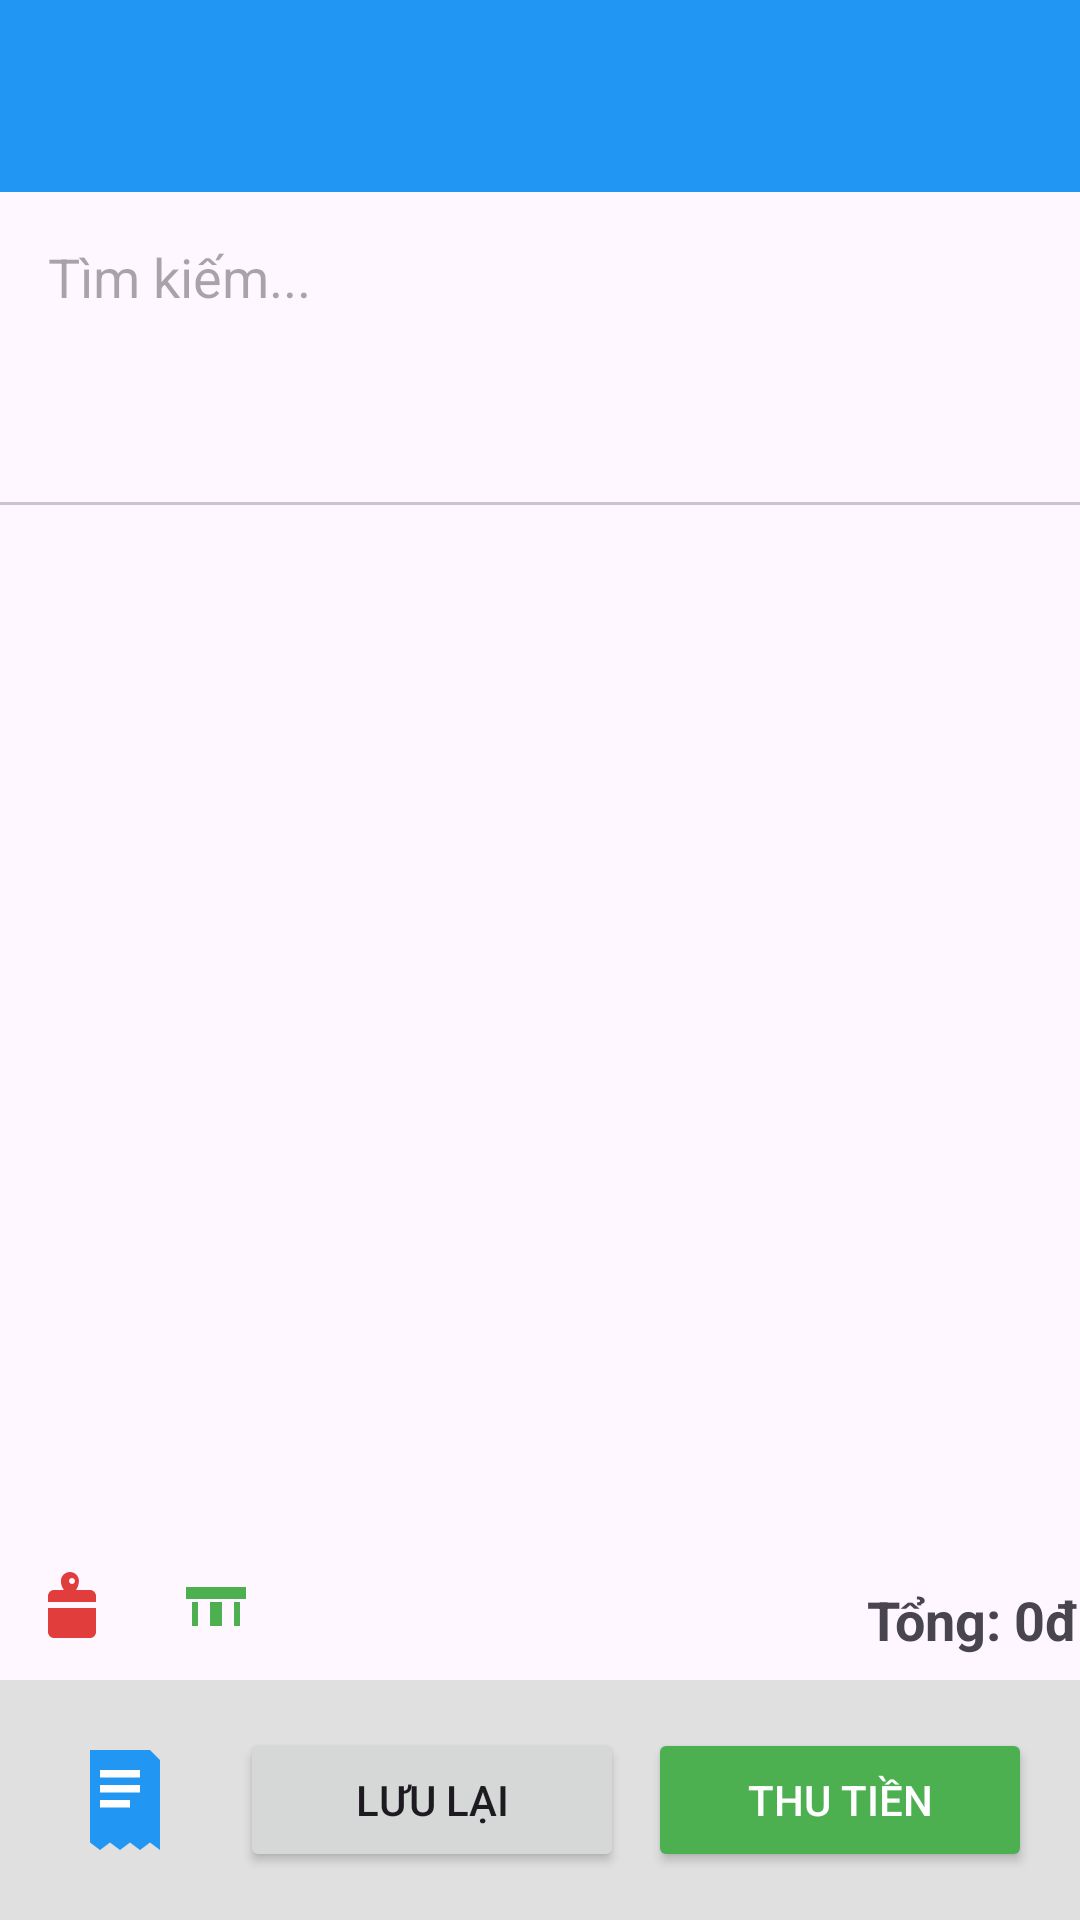

Icon click points for this 1080 x 1920 phone screenshot, format [x,y]:
invoice: [125,1800]
table: [216,1606]
